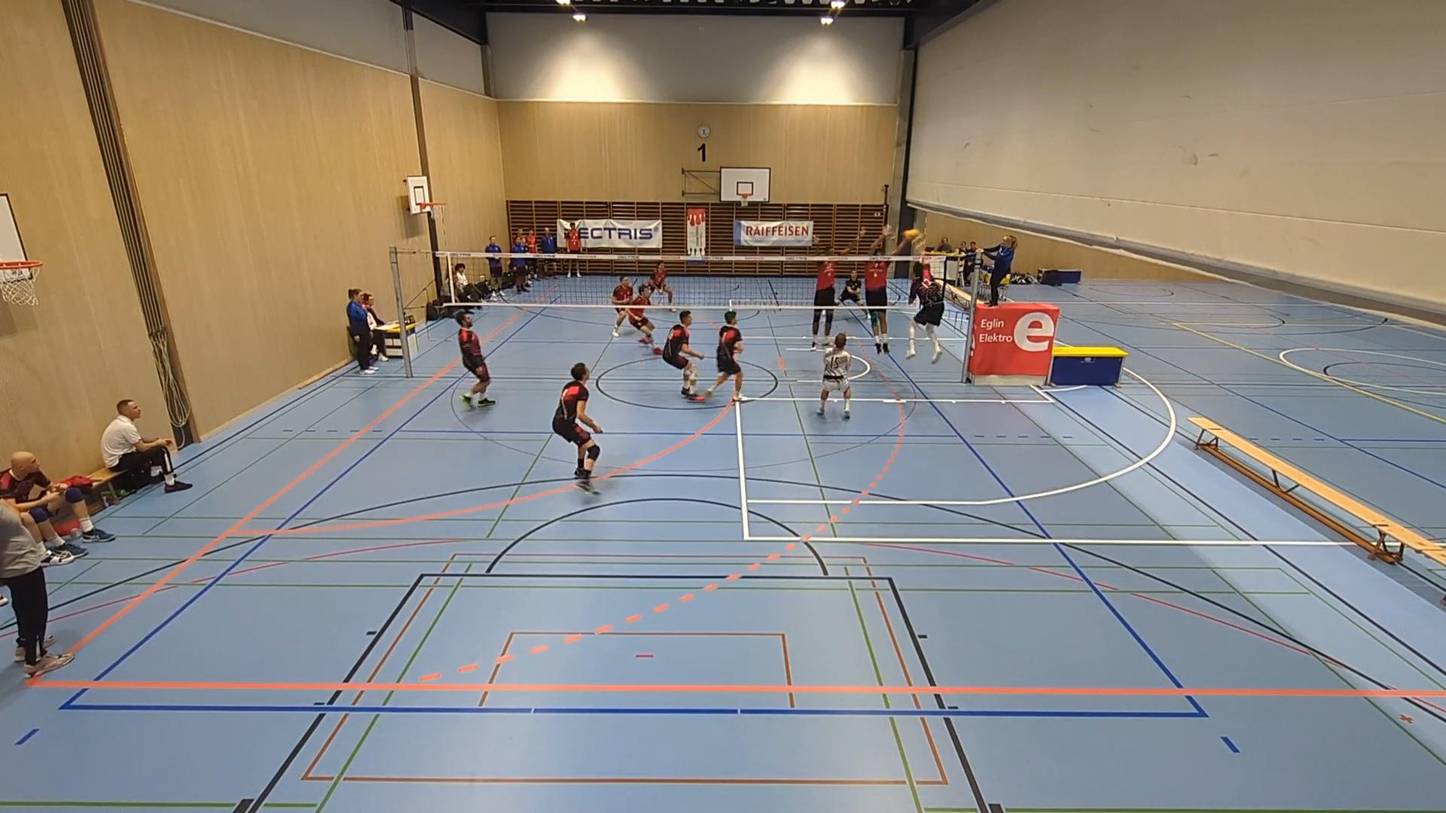attacco: (904, 242, 984, 365)
muro: (857, 216, 913, 357), (806, 223, 864, 349)
